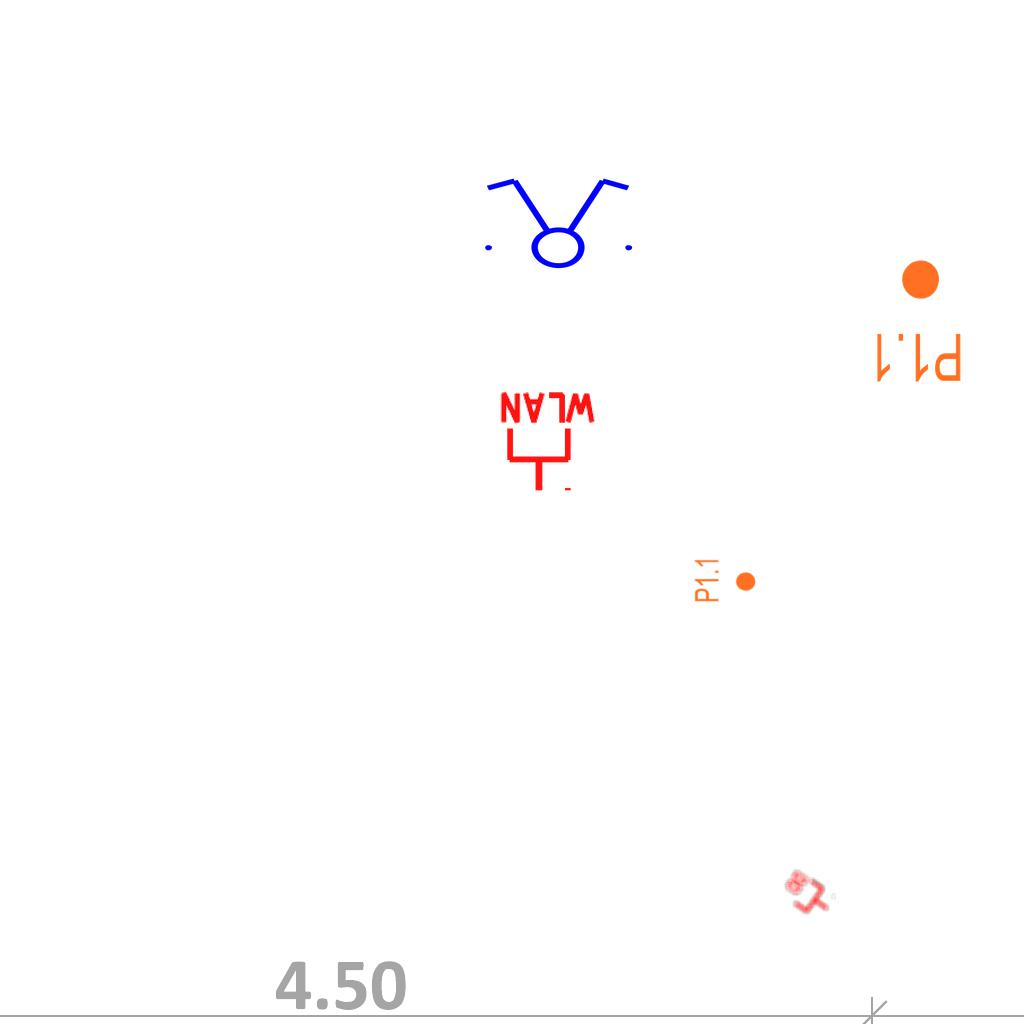Datenanschluss_zweifach: (776, 866, 838, 925)
Downlight_LED_Einbauleuchten_Flur: (871, 257, 964, 385), (693, 557, 757, 603)
Serienschalter: (473, 174, 641, 270)
WLAN: (496, 390, 600, 495)
